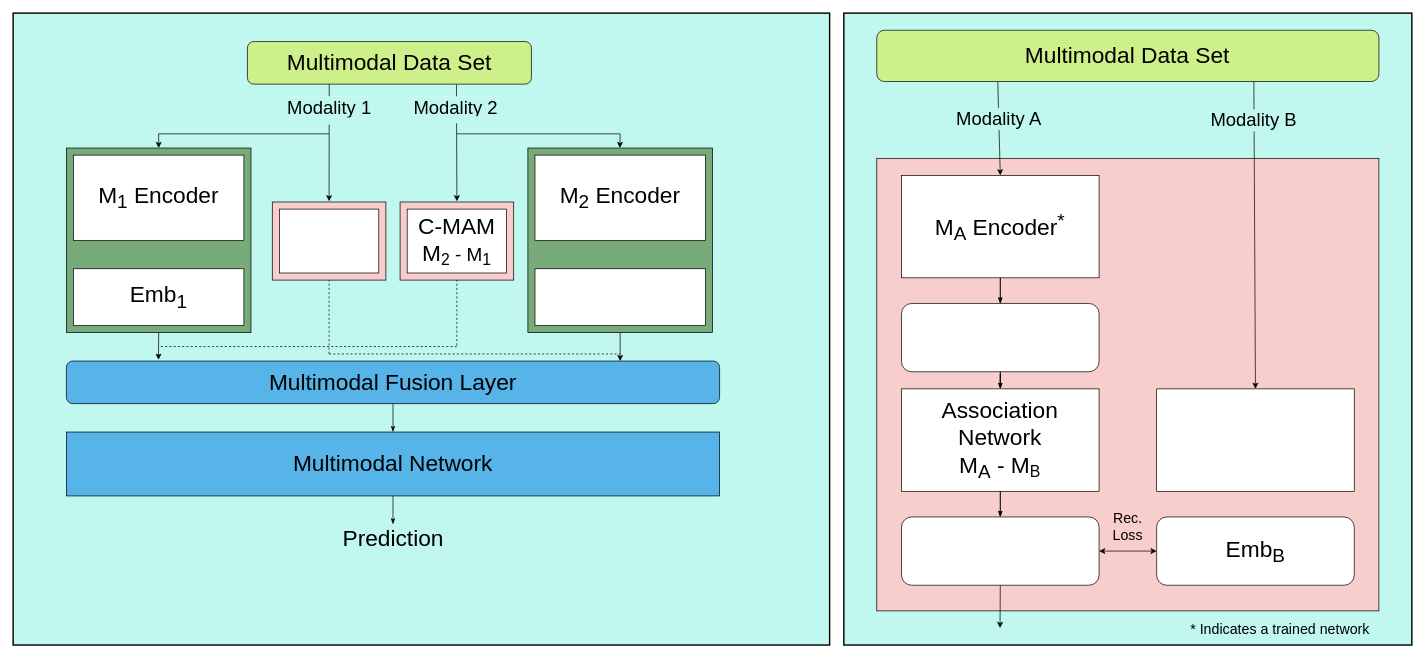
This 1424x657 diagram has some shape labels left out. The shapes that lost their labels are listed below. From the top down, each one's centre as x and y in pixels, then its label:
At (x=329, y=240): "C-MAM M 1 - M 2".
At (x=619, y=297): "Emb 2".
At (x=1000, y=337): "Emb A".
At (x=1255, y=439): "M B Encoder *".
At (x=1000, y=550): "Emb ^ B".
